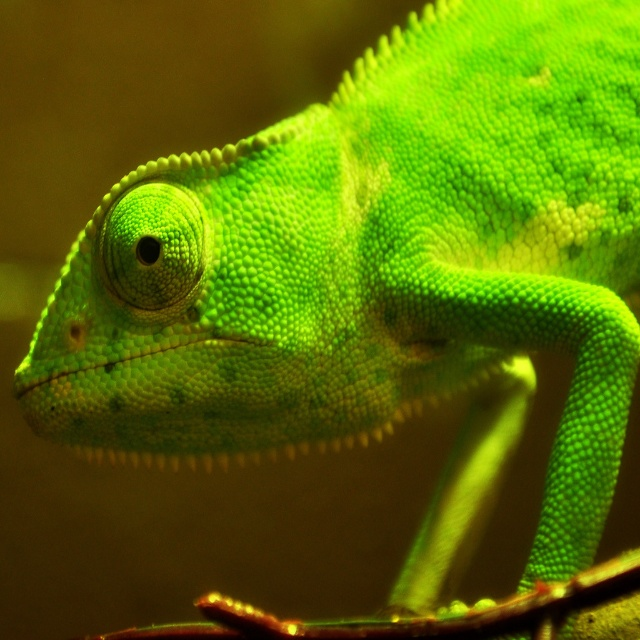Lizard: (12, 0, 640, 640)
